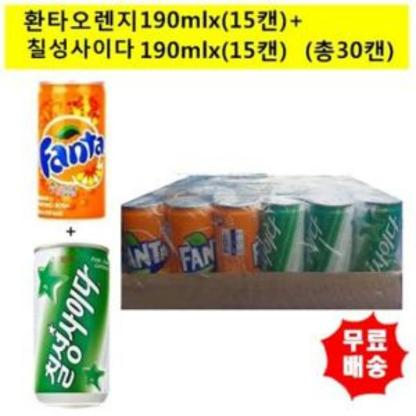Can: (31, 242, 112, 408), (35, 80, 105, 220)
